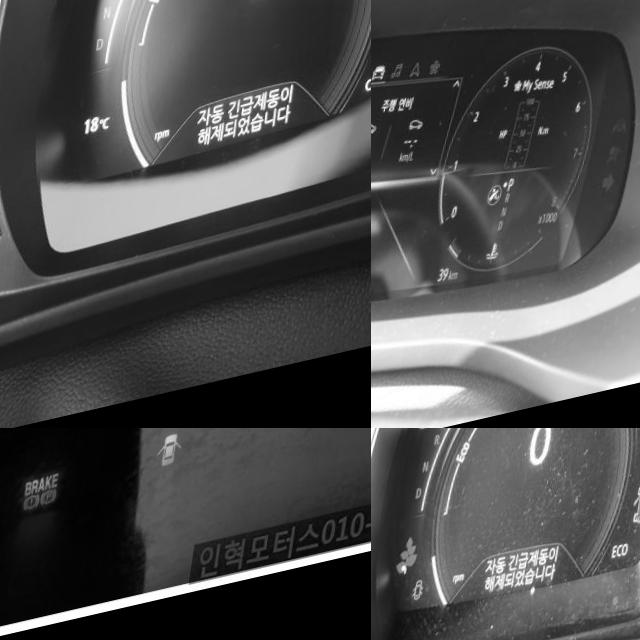Doors: (170, 442, 199, 480), (423, 588, 436, 612)
